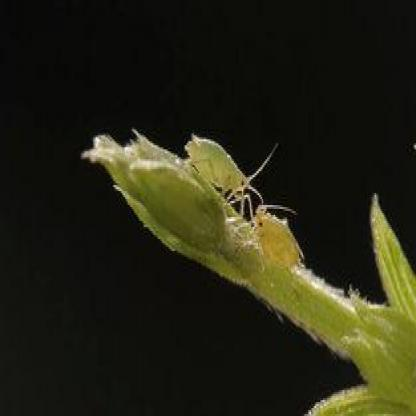aphid: (176, 122, 272, 226), (244, 195, 308, 275)
